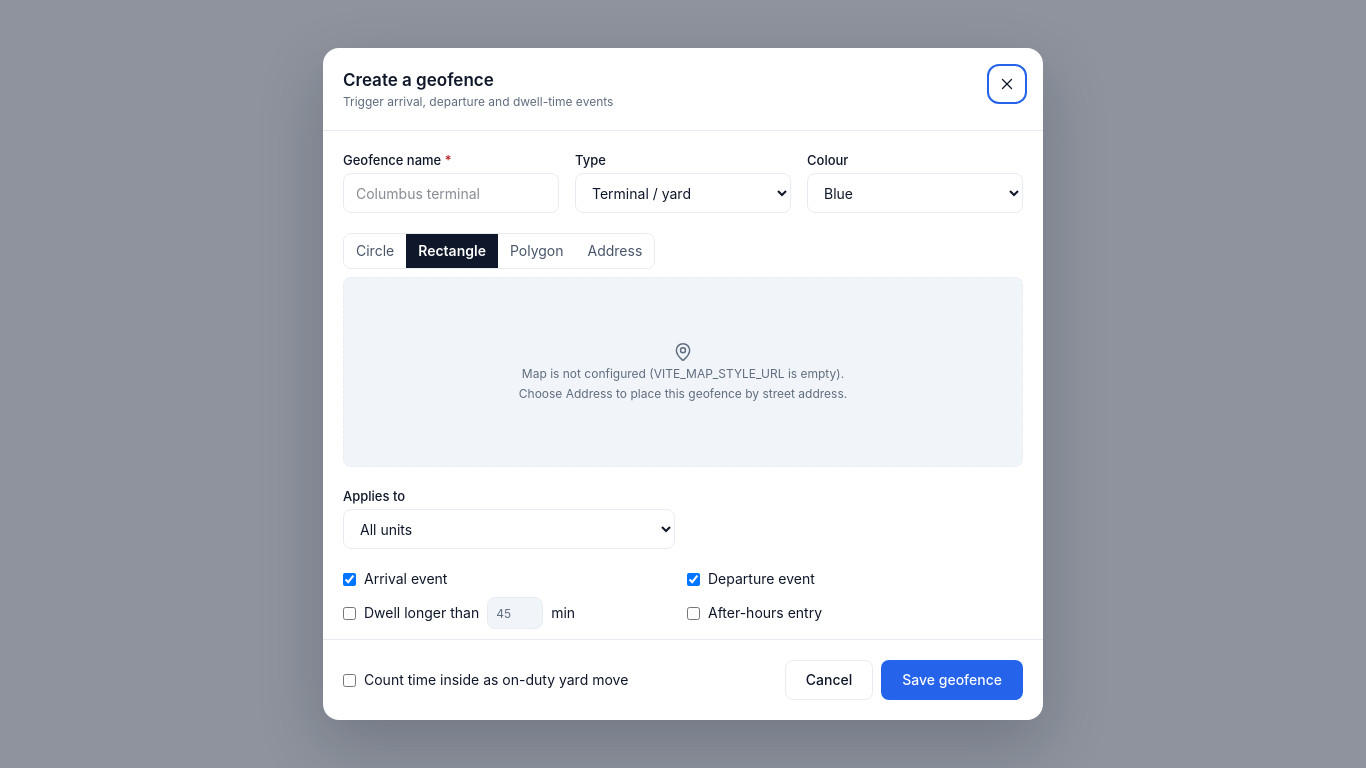
Scenario: 11.1 Create a geofence › renders the dwell and after-hours checkboxes enabled and toggleable (B-15 shipped)
Expected: the checkbox labelled "After-hours entry" is enabled, [687,606,700,620]
Expected: the number field named "Dwell minutes" is disabled, [487,597,543,629]
Click the checkbox labelled "Dwell longer than": [350, 613] box [343,606,356,620]
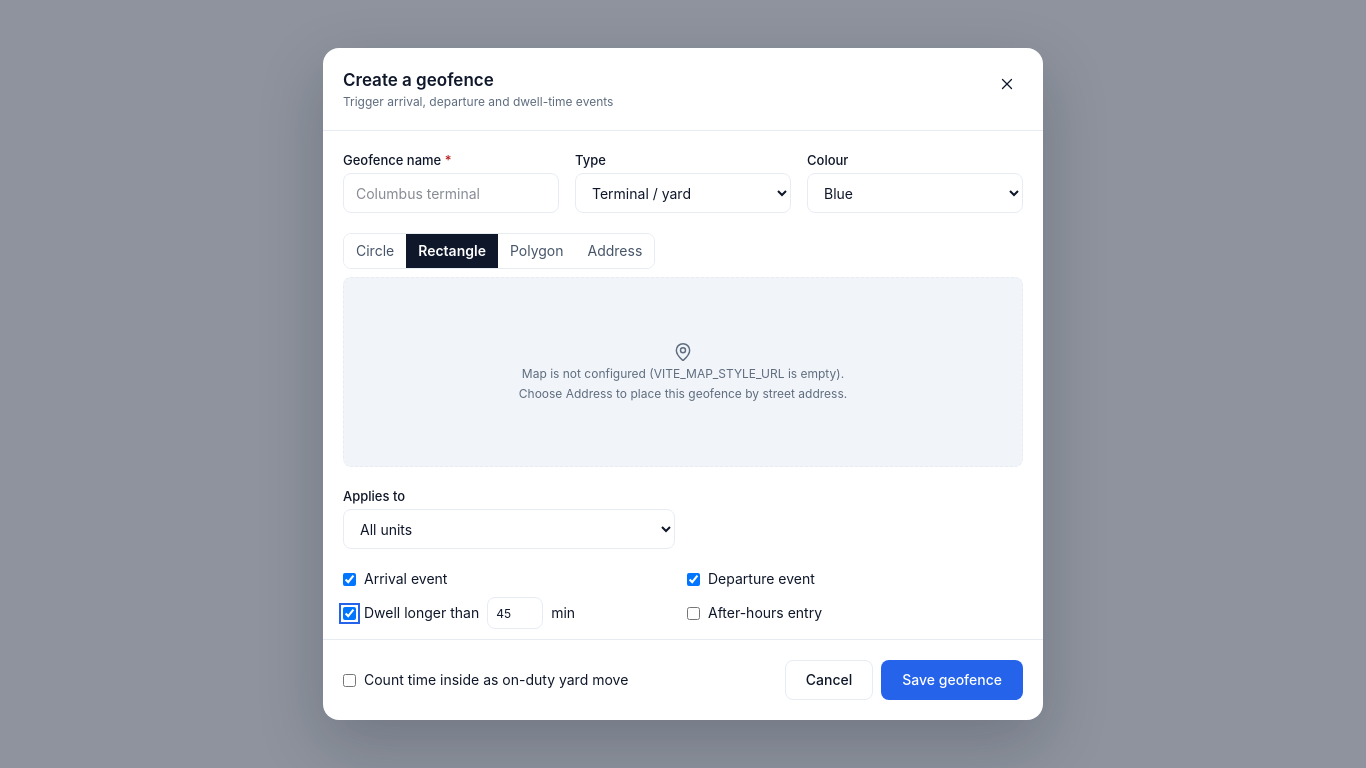
Expected: the number field named "Dwell minutes" is enabled, [487,597,543,629]
